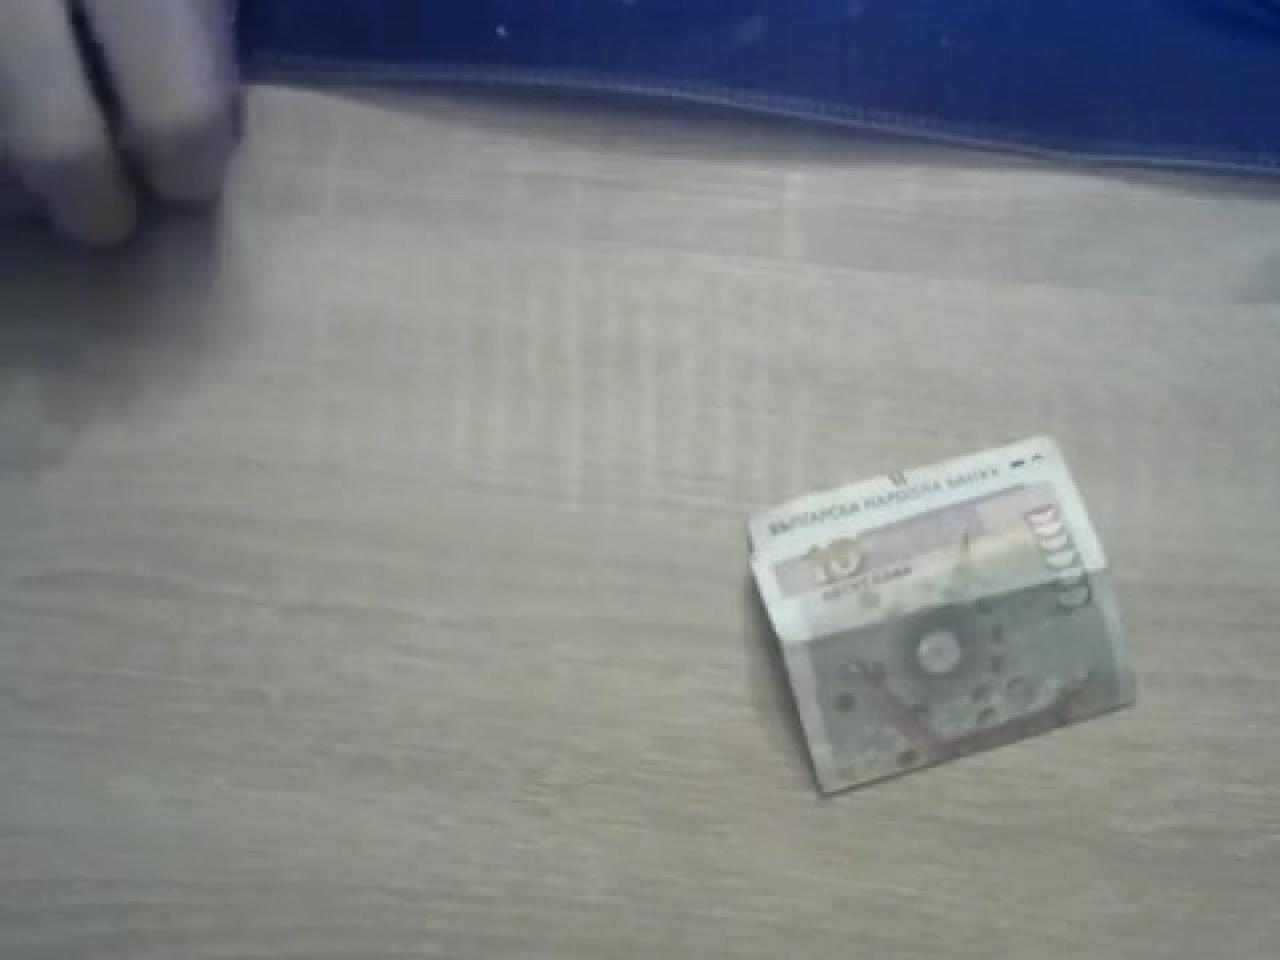10leva: (741, 432, 1139, 797)
